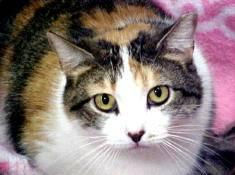cat: (0, 0, 211, 174)
